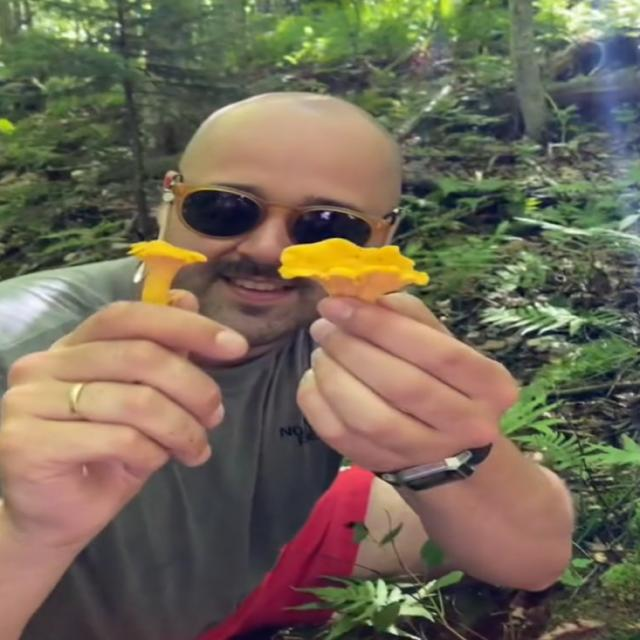chanterelle: (276, 238, 431, 304), (130, 240, 205, 307)
